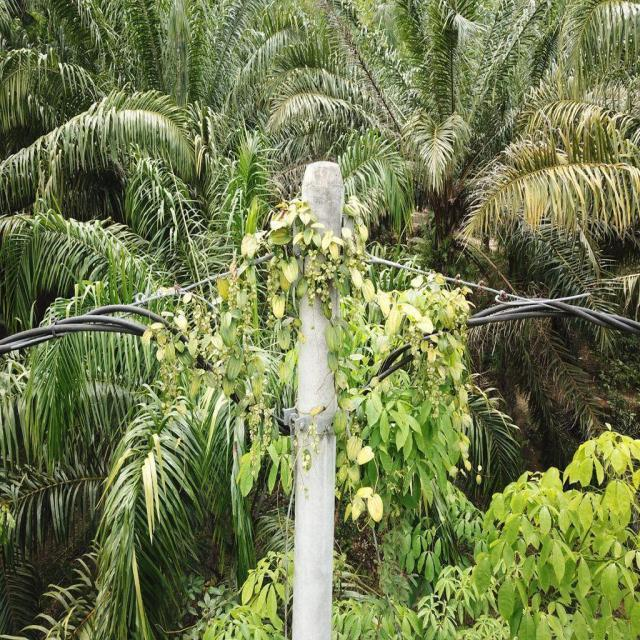critical vegetation: (166, 200, 484, 471)
